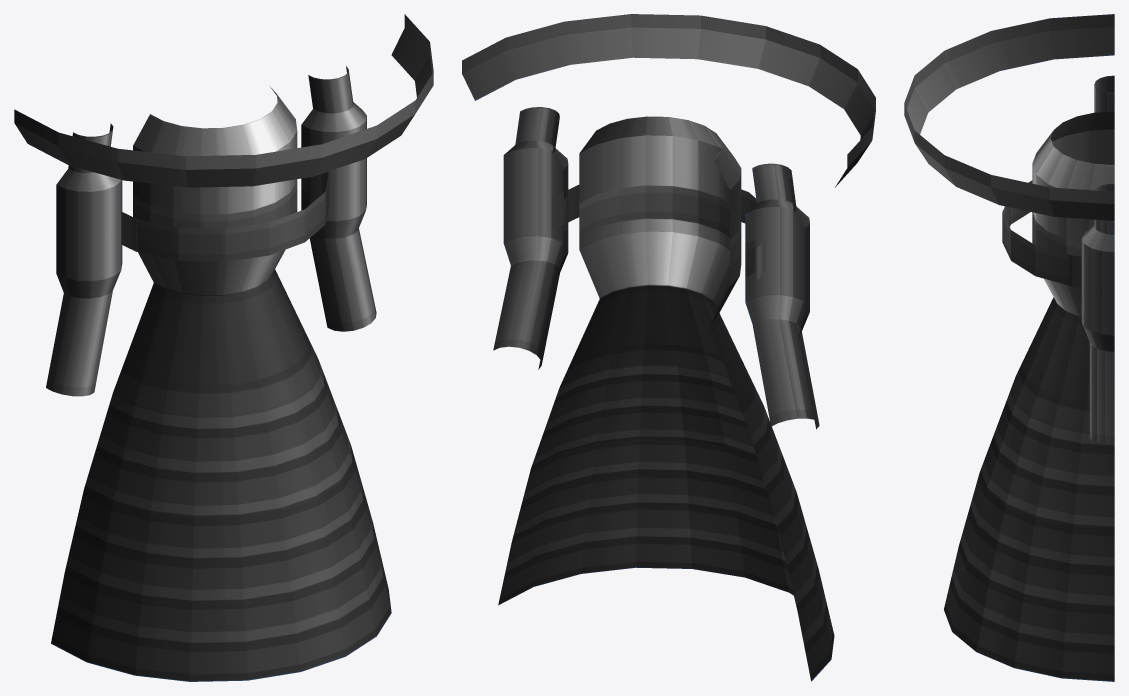
The picture shows the model from 3 angles, left to right: view 1: azimuth 30°, elevation 25°; view 2: azimuth 150°, elevation 25°; view 3: azimuth 270°, elevation 25°; orthographic projection. The views are drawn at different scales.
Visible parts, largest first — view 1: Plane; view 2: Plane; view 3: Plane.
Part boxes in pixels (box(x1,y1,x2,y2)): Plane: box(14, 14, 433, 681); Plane: box(462, 14, 875, 681); Plane: box(904, 14, 1114, 681).
Size of the model in its own units: 3 by 3.99 by 1.5.
1 material, 1 textured.
